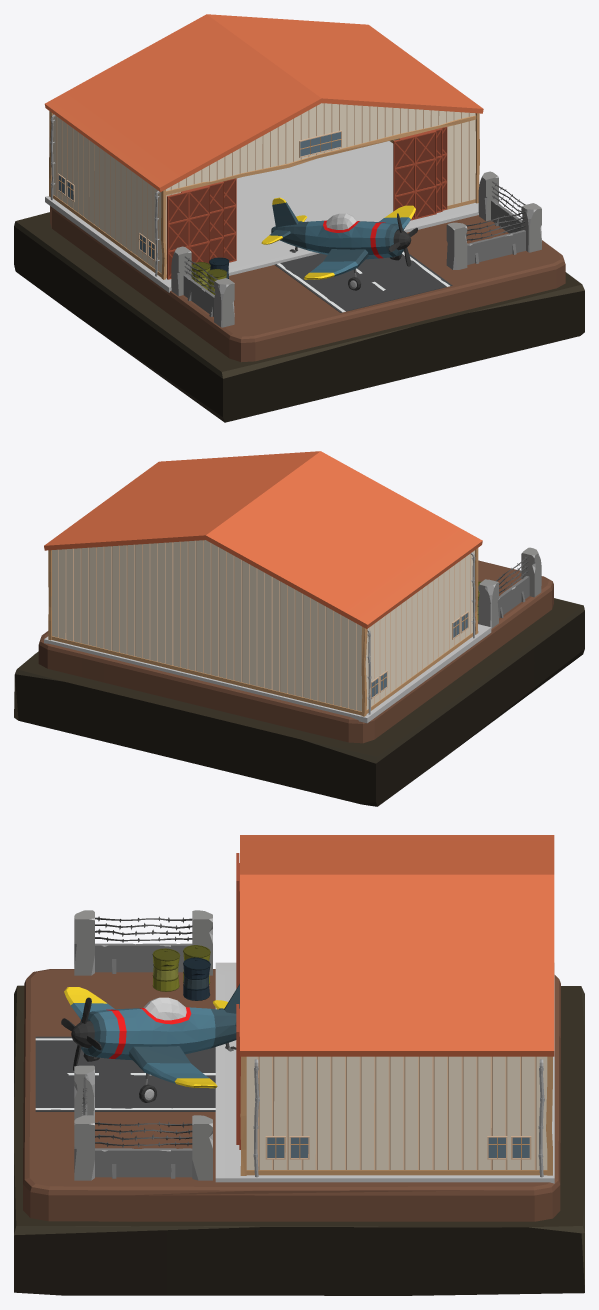
The model's file is Stage009.fbx.
3 renders of one model, top to bottom at view 1: azimuth 30°, elevation 25°; view 2: azimuth 150°, elevation 25°; view 3: azimuth 270°, elevation 25°, orthographic. The views are drawn at different scales.
Visible parts, largest first — view 1: Stage009; view 2: Stage009; view 3: Stage009.
Part boxes in pixels (box(x1,y1,x2,y2)): Stage009: box(14, 14, 584, 422); Stage009: box(14, 451, 584, 806); Stage009: box(14, 835, 584, 1295).
Size of the model in its own units: 38.48 by 22.37 by 38.48.
Materials: 1 (1 with a texture image).
